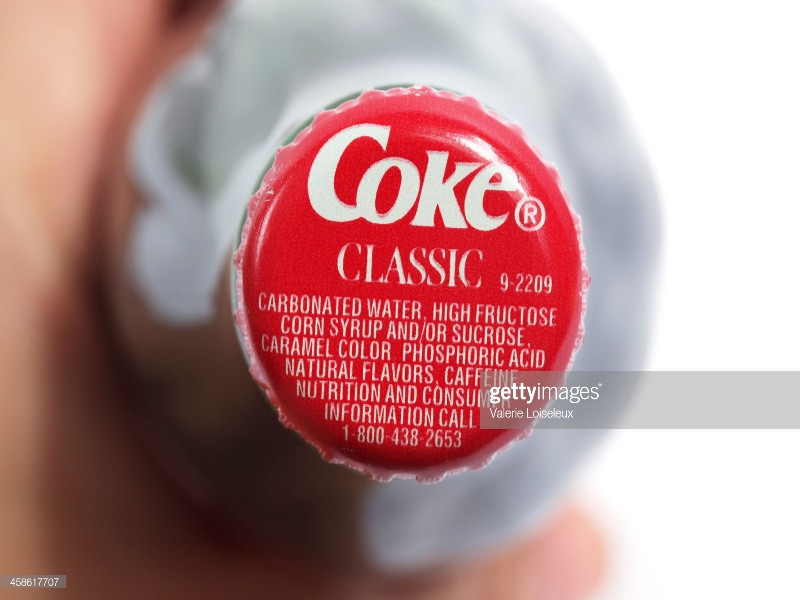coke-glass-bottle: (163, 52, 615, 540)
